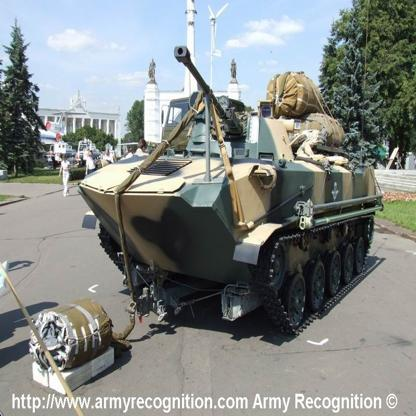Tank: (77, 43, 378, 342)
